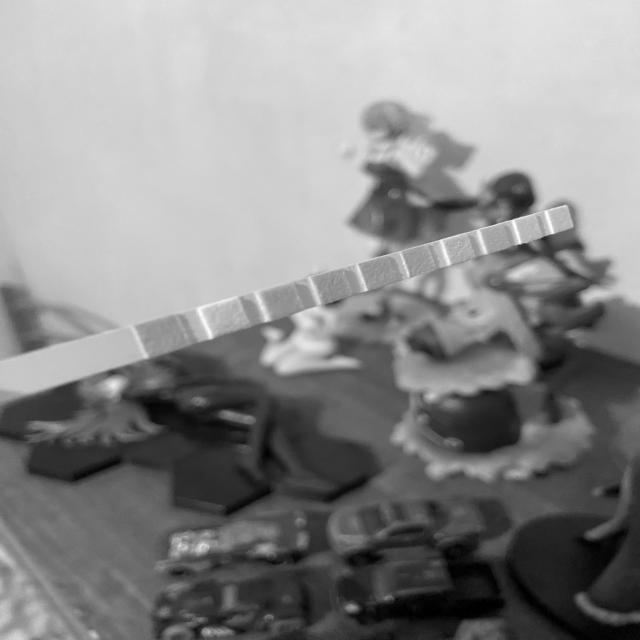Bilirubin: (212, 306, 242, 329)
Blood: (366, 262, 389, 284)
Glucose: (145, 324, 181, 347)
Ketone: (268, 290, 296, 314)
Leukocytes: (554, 210, 568, 230)
Nitrite: (521, 218, 538, 239)
Protein: (450, 238, 469, 258)
SpGravity: (322, 276, 345, 298)
Urobilinogen: (488, 228, 505, 248)
background: (0, 0, 640, 640)
pH: (410, 249, 431, 271)
strip: (0, 205, 576, 405)
